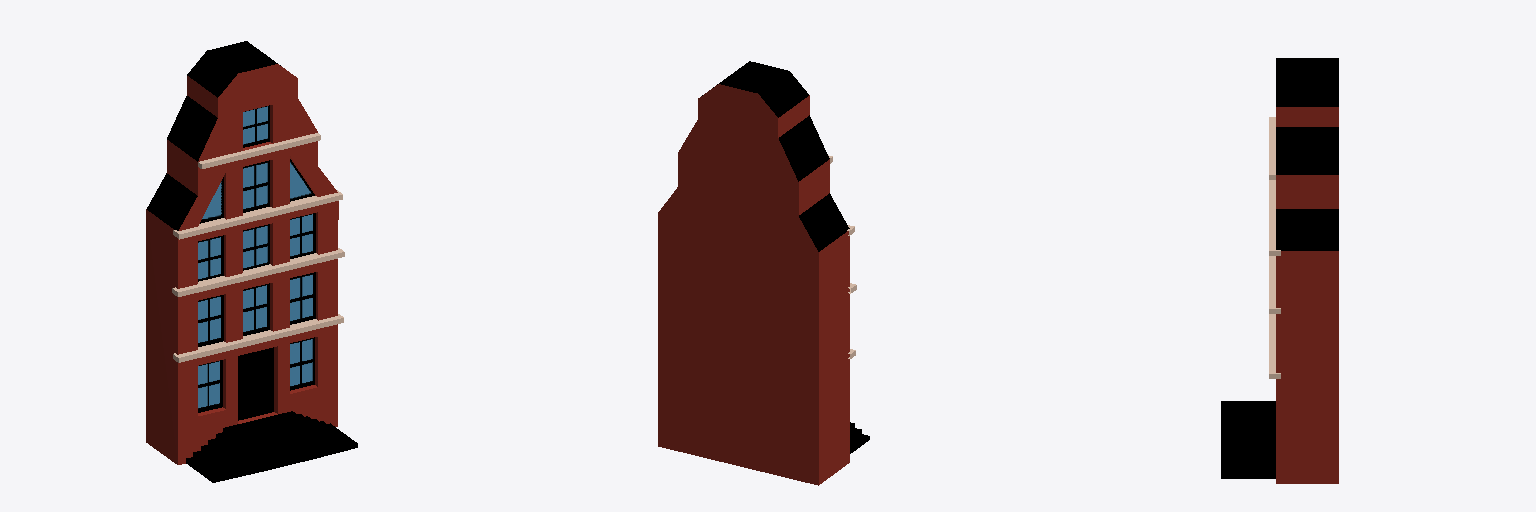
The picture shows the model from 3 angles: view 1: azimuth 30°, elevation 25°; view 2: azimuth 150°, elevation 25°; view 3: azimuth 270°, elevation 25°; orthographic projection.
Visible parts, largest first — view 1: kamienica3; view 2: kamienica3; view 3: kamienica3.
Boxes of the visible parts, box(x1,y1,x2,y2) form: kamienica3: box(146, 41, 357, 482); kamienica3: box(658, 61, 869, 485); kamienica3: box(1221, 58, 1338, 483).
Size of the model in its own units: 6.2 by 13.42 by 3.79.
Materials: 1 (1 with a texture image).